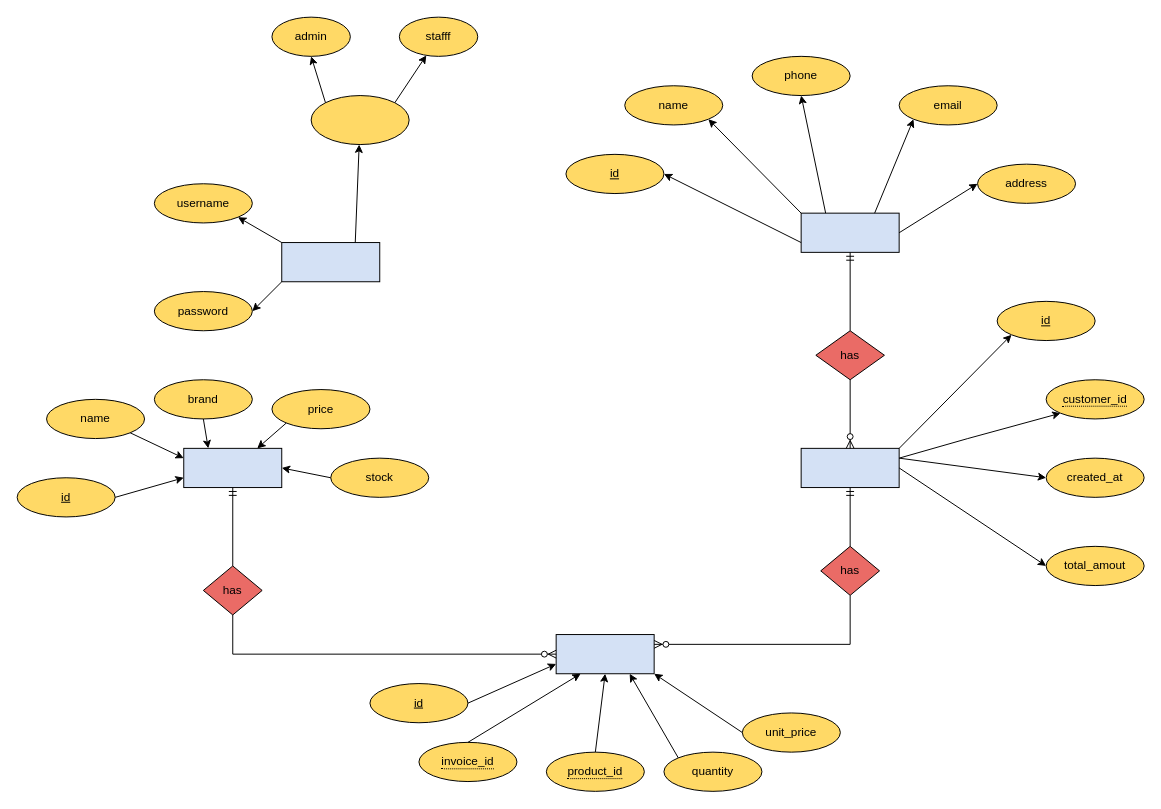
The diagram is 1161 pixels wide and 809 high, and some of its shapes have lost their labels. The centre of each missing label's shape, as x and y in pixels:
"Customer" goes at (x=849, y=232).
"Invoice" goes at (x=849, y=467).
"InvoiceDetails" goes at (x=604, y=654).
"Product" goes at (x=232, y=467).
"role" goes at (x=359, y=120).
"User" goes at (x=330, y=262).
